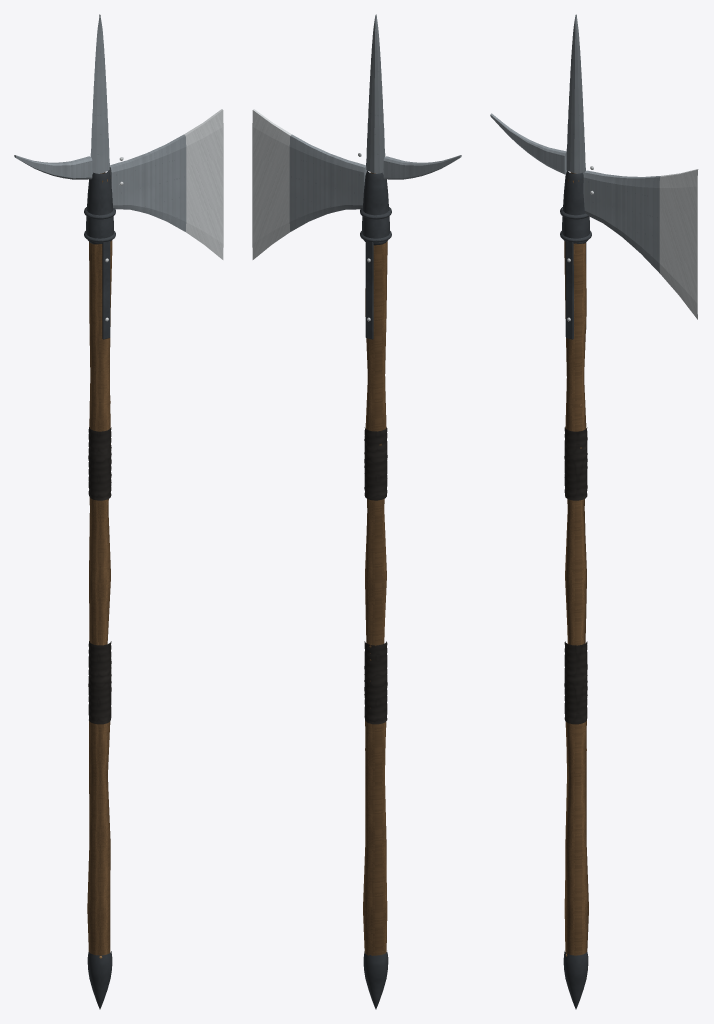
File: halberd.lod1.glb
3 views of the same model, side by side, from view 1: azimuth 30°, elevation 25°; view 2: azimuth 150°, elevation 25°; view 3: azimuth 330°, elevation 25° (orthographic).
Visible parts, largest first — view 1: wood / oiled hardwood, steel / forged blade steel, edge / honed bright bevel, darksteel / oil-blackened fittings, leather / oiled leather wrap; view 2: wood / oiled hardwood, steel / forged blade steel, edge / honed bright bevel, darksteel / oil-blackened fittings, leather / oiled leather wrap; view 3: wood / oiled hardwood, steel / forged blade steel, edge / honed bright bevel, leather / oiled leather wrap, darksteel / oil-blackened fittings.
Boxes of the visible parts, x1=… form: wood / oiled hardwood: x1=87, y1=172, x2=112, y2=955; steel / forged blade steel: x1=14, y1=14, x2=186, y2=231; edge / honed bright bevel: x1=105, y1=109, x2=223, y2=321; darksteel / oil-blackened fittings: x1=84, y1=170, x2=115, y2=1009; leather / oiled leather wrap: x1=88, y1=427, x2=111, y2=724; wood / oiled hardwood: x1=363, y1=172, x2=387, y2=955; steel / forged blade steel: x1=289, y1=14, x2=461, y2=231; edge / honed bright bevel: x1=252, y1=109, x2=370, y2=321; darksteel / oil-blackened fittings: x1=360, y1=170, x2=391, y2=1009; leather / oiled leather wrap: x1=364, y1=427, x2=387, y2=724; wood / oiled hardwood: x1=564, y1=172, x2=588, y2=955; steel / forged blade steel: x1=490, y1=14, x2=660, y2=273; edge / honed bright bevel: x1=567, y1=166, x2=698, y2=321; leather / oiled leather wrap: x1=564, y1=427, x2=587, y2=724; darksteel / oil-blackened fittings: x1=560, y1=170, x2=591, y2=1009.
Bounding box in the file's own units: 0.44 × 2.02 × 0.0592.
7 materials, 5 textured.
